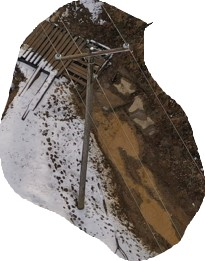pole: (48, 36, 136, 209)
